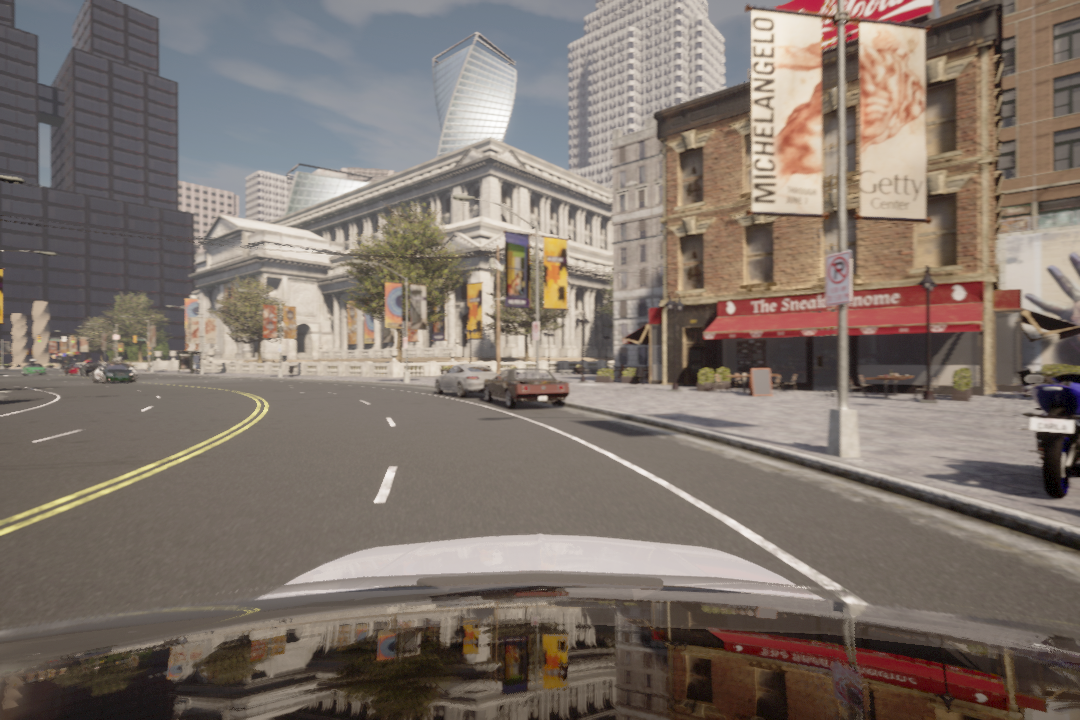TrafficSign_nstop: (825, 253, 853, 306)
